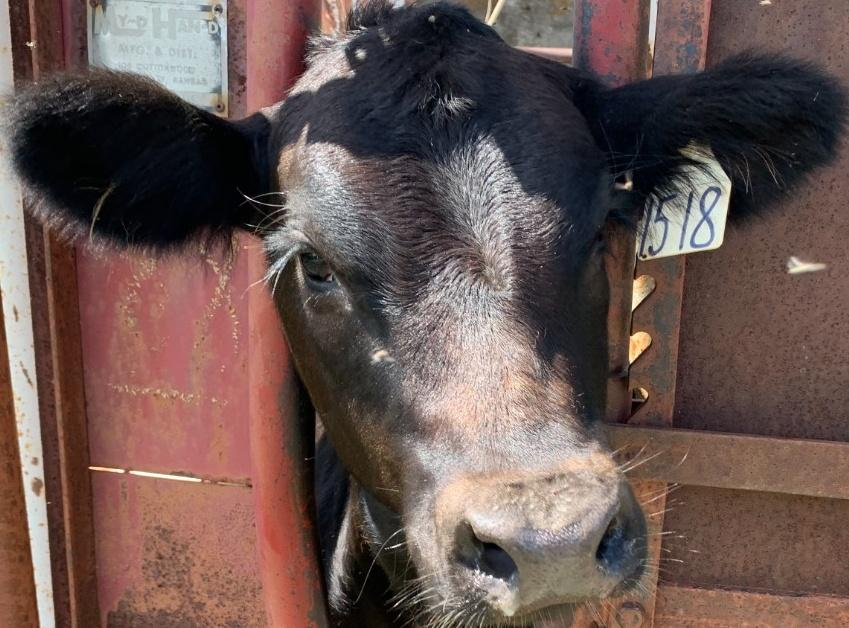muzzles: (404, 454, 660, 622)
